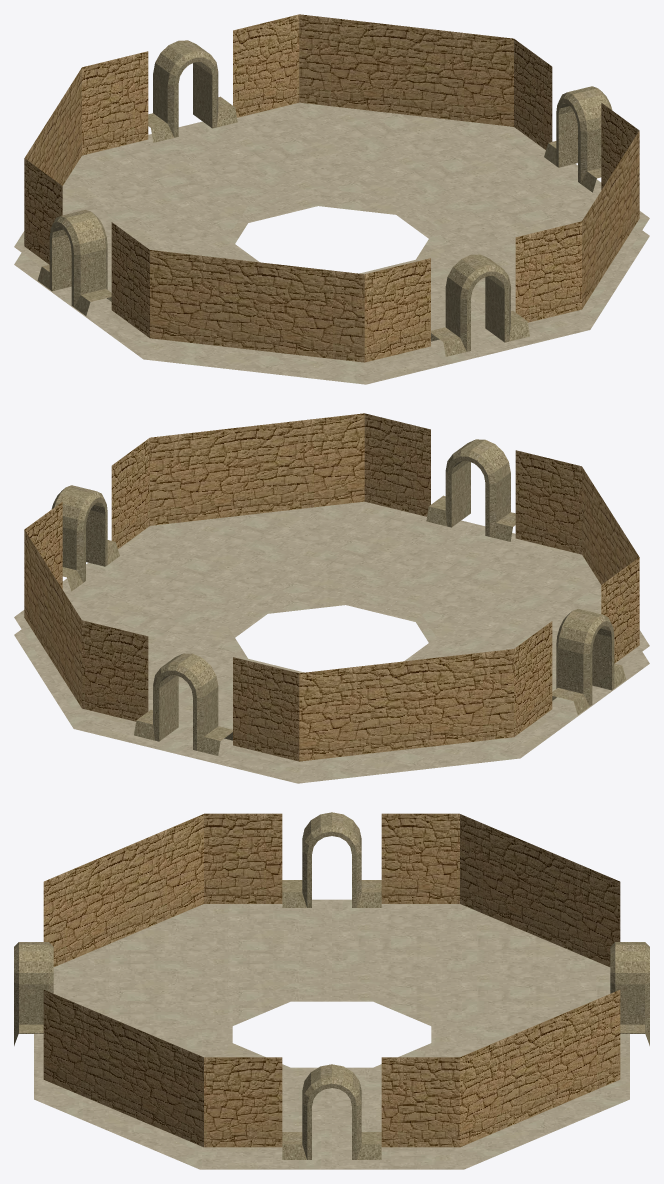
File: LibraryMainFloorsWalls-transformed.glb
3 views of the same model, one above another, from view 1: azimuth 30°, elevation 25°; view 2: azimuth 150°, elevation 25°; view 3: azimuth 270°, elevation 25° (orthographic).
Visible parts, largest first — view 1: object1.008, object1.003, object2; view 2: object1.008, object1.003, object2; view 3: object1.008, object1.003, object2.
Boxes of the visible parts, x1,y1,x2,y2 form: object1.008: (24,14,639,362); object1.003: (14,102,649,384); object2: (37,40,612,356); object1.008: (24,413,639,761); object1.003: (14,501,649,783); object2: (51,439,626,755); object1.008: (43,813,620,1147); object1.003: (34,899,629,1169); object2: (14,812,649,1159).
Size of the model in its own units: 6.4 by 1.2 by 6.4.
3 materials, 3 textured.
